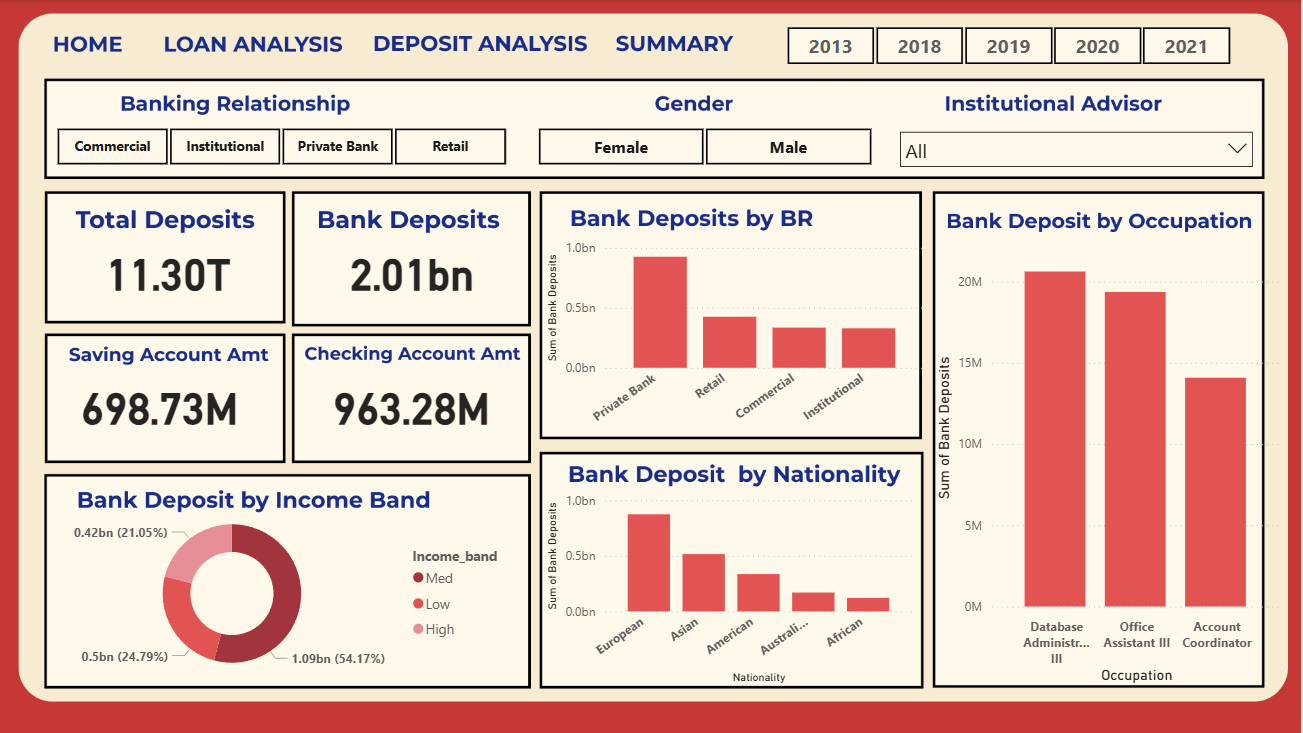

This screenshot's page, from the dashboard's own definition file:
{"tool":"powerbi","page":{"name":"Deposit Analysis","canvas":[1280,720],"ordinal":2},"visuals":[{"type":"actionButton","box":[159.3,23.5,185.2,40.7],"z":0},{"type":"actionButton","box":[49.4,23.5,87.7,40.7],"z":1000},{"type":"actionButton","box":[361.7,23.5,230.9,40.7],"z":2000},{"type":"card","fields":{"Values":["Sum(Banking.Bank Deposits)"]},"box":[308.6,211.1,196.3,108.6],"z":3000},{"type":"card","fields":{"Values":["Sum(Banking.Checking Accounts)"]},"box":[300,342,214.8,108.6],"z":4000},{"type":"card","fields":{"Values":["Sum(Banking.Saving Accounts)"]},"box":[49.4,342,221,108.6],"z":5000},{"type":"card","fields":{"Values":["Sum(Banking.Total deposits)"]},"box":[70.4,211.1,196.3,108.6],"z":6000},{"type":"slicer","fields":{"Values":["Banking.GenderId"]},"box":[504.9,118.5,376.5,49.4],"z":7000},{"type":"slicer","fields":{"Values":["Banking.BRId"]},"box":[33.3,118.5,490.1,49.4],"z":8000},{"type":"columnChart","fields":{"Category":["Banking.BRId"],"Y":["Sum(Banking.Bank Deposits)"]},"box":[534.6,229.6,381.5,198.8],"z":9000},{"type":"columnChart","fields":{"Category":["Banking.Nationality"],"Y":["Sum(Banking.Bank Deposits)"]},"box":[534.6,477.8,369.1,198.8],"z":10000},{"type":"columnChart","fields":{"Category":["Banking.Occupation"],"Y":["Sum(Banking.Bank Deposits)"]},"box":[916,230.9,349.4,445.7],"z":11000},{"type":"slicer","fields":{"Values":["Banking.IAId"]},"box":[876.5,118.5,366.7,49.4],"z":12000},{"type":"donutChart","fields":{"Category":["Banking.Income_band"],"Y":["Sum(Banking.Bank Deposits)"]},"box":[49.4,490.1,465.4,186.4],"z":13000},{"type":"actionButton","box":[602.5,23.5,123.5,40.7],"z":14000},{"type":"slicer","fields":{"Values":["Banking.joining year"]},"box":[749.7,19.6,484.7,49.1],"z":15000}]}

Visuals, with their boxes in screenshot pixels (x1, y1, x2, y2), scaled from the page's 1280x720 canvas onto the 1303x733 screenshot:
actionButton: box(162, 24, 351, 65)
actionButton: box(50, 24, 140, 65)
actionButton: box(368, 24, 603, 65)
card - Sum(Banking.Bank Deposits): box(314, 215, 514, 325)
card - Sum(Banking.Checking Accounts): box(305, 348, 524, 459)
card - Sum(Banking.Saving Accounts): box(50, 348, 275, 459)
card - Sum(Banking.Total deposits): box(72, 215, 271, 325)
slicer - Banking.GenderId: box(514, 121, 897, 171)
slicer - Banking.BRId: box(34, 121, 533, 171)
columnChart - Banking.BRId x Sum(Banking.Bank Deposits): box(544, 234, 933, 436)
columnChart - Banking.Nationality x Sum(Banking.Bank Deposits): box(544, 486, 920, 689)
columnChart - Banking.Occupation x Sum(Banking.Bank Deposits): box(932, 235, 1288, 689)
slicer - Banking.IAId: box(892, 121, 1266, 171)
donutChart - Banking.Income_band x Sum(Banking.Bank Deposits): box(50, 499, 524, 689)
actionButton: box(613, 24, 739, 65)
slicer - Banking.joining year: box(763, 20, 1257, 70)
